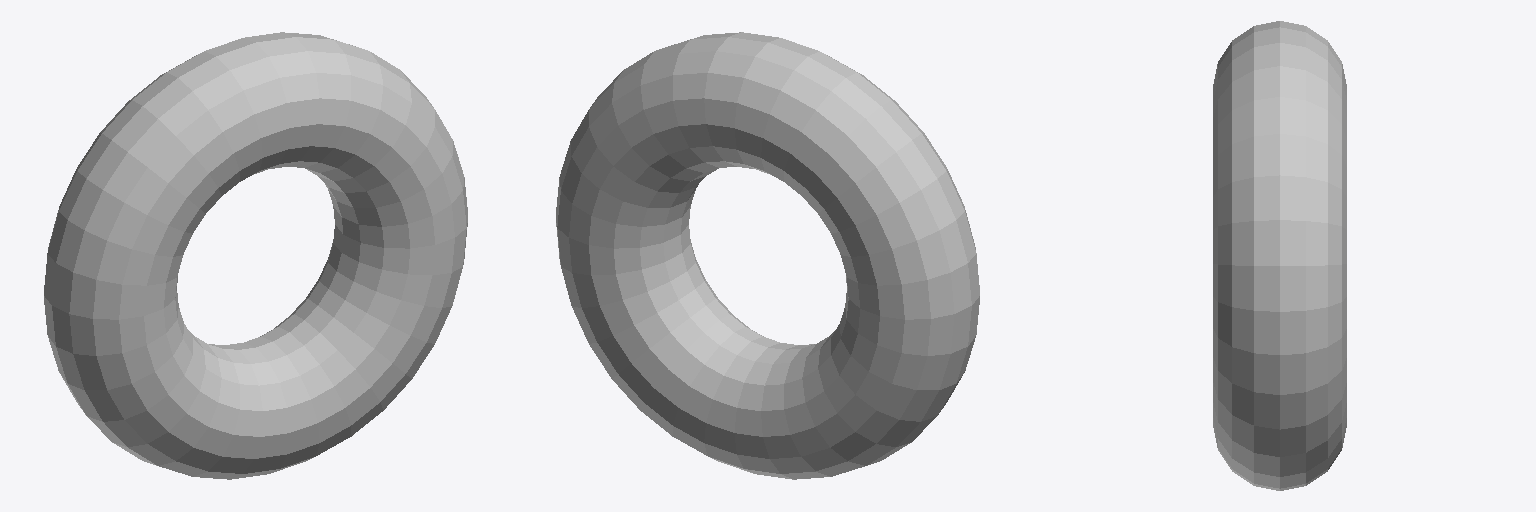
3 views of the same model, side by side, from view 1: azimuth 30°, elevation 25°; view 2: azimuth 150°, elevation 25°; view 3: azimuth 270°, elevation 25° (orthographic).
Parts seen in each view (by area): view 1: torus-base_Cylinder.003; view 2: torus-base_Cylinder.003; view 3: torus-base_Cylinder.003.
Part boxes in pixels (bbox=[...]): torus-base_Cylinder.003: bbox=[44, 32, 467, 479]; torus-base_Cylinder.003: bbox=[556, 32, 979, 479]; torus-base_Cylinder.003: bbox=[1213, 21, 1346, 490].
Bounding box in the file's own units: 2.8 × 2.8 × 0.8.